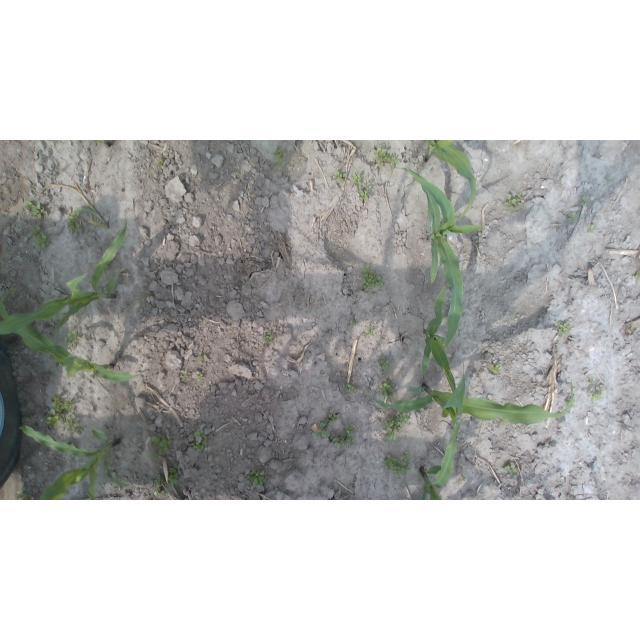Maize: (373, 380, 577, 489), (393, 166, 485, 349), (1, 215, 128, 337), (1, 295, 140, 383), (18, 424, 132, 500), (425, 141, 478, 223), (421, 287, 459, 400), (417, 464, 448, 500)
Weeds: (48, 396, 85, 431), (321, 412, 356, 446), (385, 410, 409, 440), (154, 469, 179, 496), (360, 271, 384, 294), (385, 453, 412, 473), (375, 147, 398, 167), (151, 435, 171, 456), (28, 225, 46, 247), (352, 176, 368, 199), (189, 430, 207, 450), (23, 201, 44, 218), (380, 381, 396, 400), (67, 213, 82, 231), (588, 381, 601, 400), (506, 195, 522, 210), (274, 147, 285, 168), (249, 471, 264, 486), (557, 323, 570, 336), (65, 332, 78, 345), (334, 172, 346, 181), (505, 467, 520, 474), (379, 360, 388, 369), (568, 214, 576, 223), (18, 492, 27, 500), (345, 384, 353, 392), (590, 224, 597, 232), (491, 365, 500, 371), (265, 335, 272, 342), (198, 355, 206, 361), (181, 373, 187, 380), (197, 375, 204, 381), (582, 197, 588, 203), (635, 270, 640, 277), (160, 160, 165, 166)
